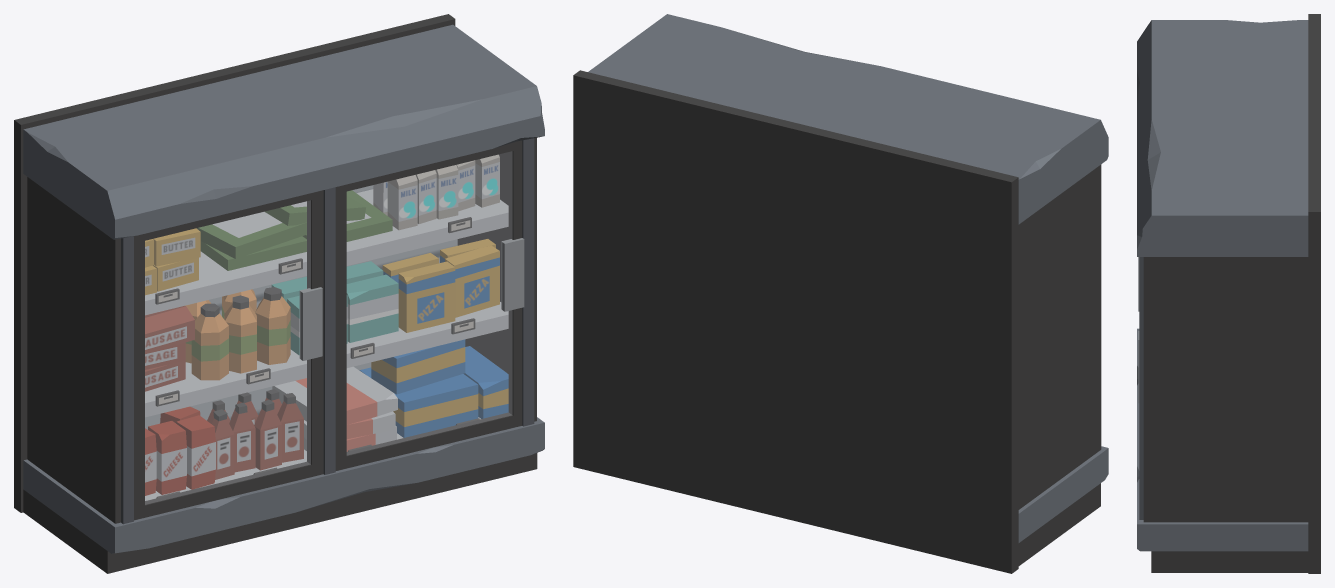
File: SM_Prop_ShopFridge_02.fbx
The picture shows the model from 3 angles, left to right: view 1: azimuth 30°, elevation 25°; view 2: azimuth 150°, elevation 25°; view 3: azimuth 270°, elevation 25°; orthographic projection. The views are drawn at different scales.
Visible parts, largest first — view 1: SM_Prop_ShopFridge_02; view 2: SM_Prop_ShopFridge_02; view 3: SM_Prop_ShopFridge_02.
Boxes of the visible parts, x1=… form: SM_Prop_ShopFridge_02: x1=14, y1=14, x2=544, y2=573; SM_Prop_ShopFridge_02: x1=573, y1=14, x2=1108, y2=573; SM_Prop_ShopFridge_02: x1=1137, y1=14, x2=1320, y2=573.
Size of the model in its own units: 269 by 229 by 106.
